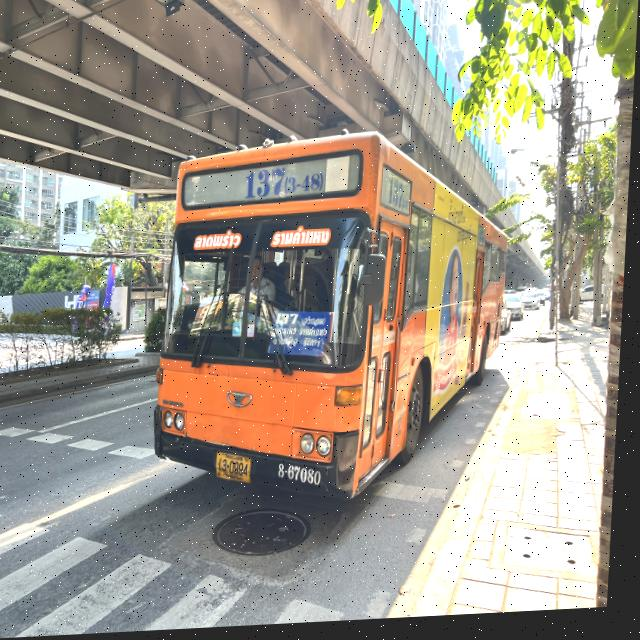BMTA-bus: (154, 130, 519, 513)
Bus-Line-Number: (244, 163, 328, 203)
Destination-Sign-Normal: (271, 312, 334, 367)
